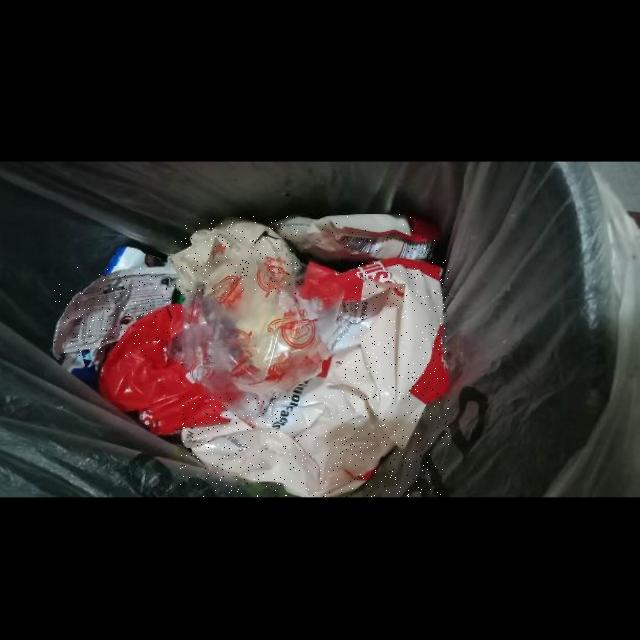paper: (170, 217, 300, 295)
plastic: (180, 260, 449, 497)
wrapper: (182, 236, 341, 395), (53, 267, 178, 356), (272, 214, 440, 263)
